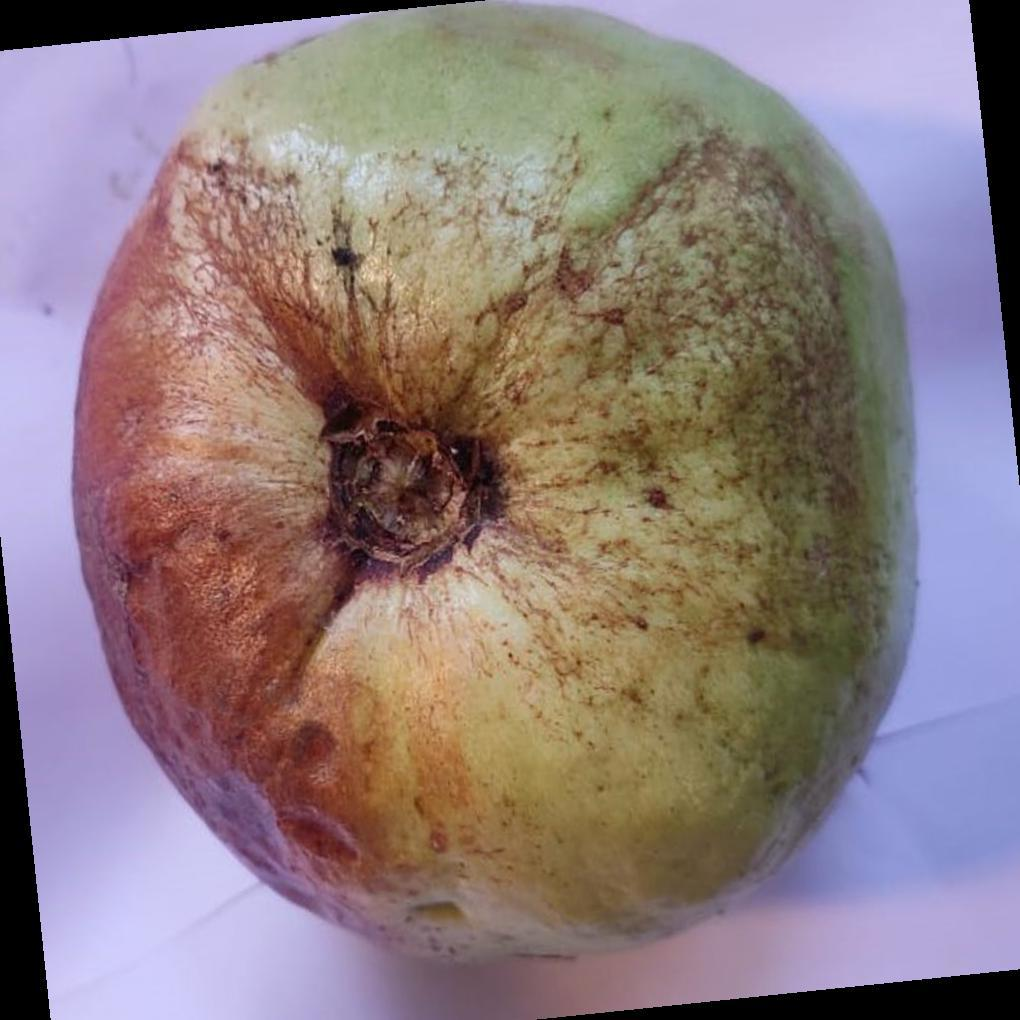FreshOrange: (70, 1, 922, 970)
